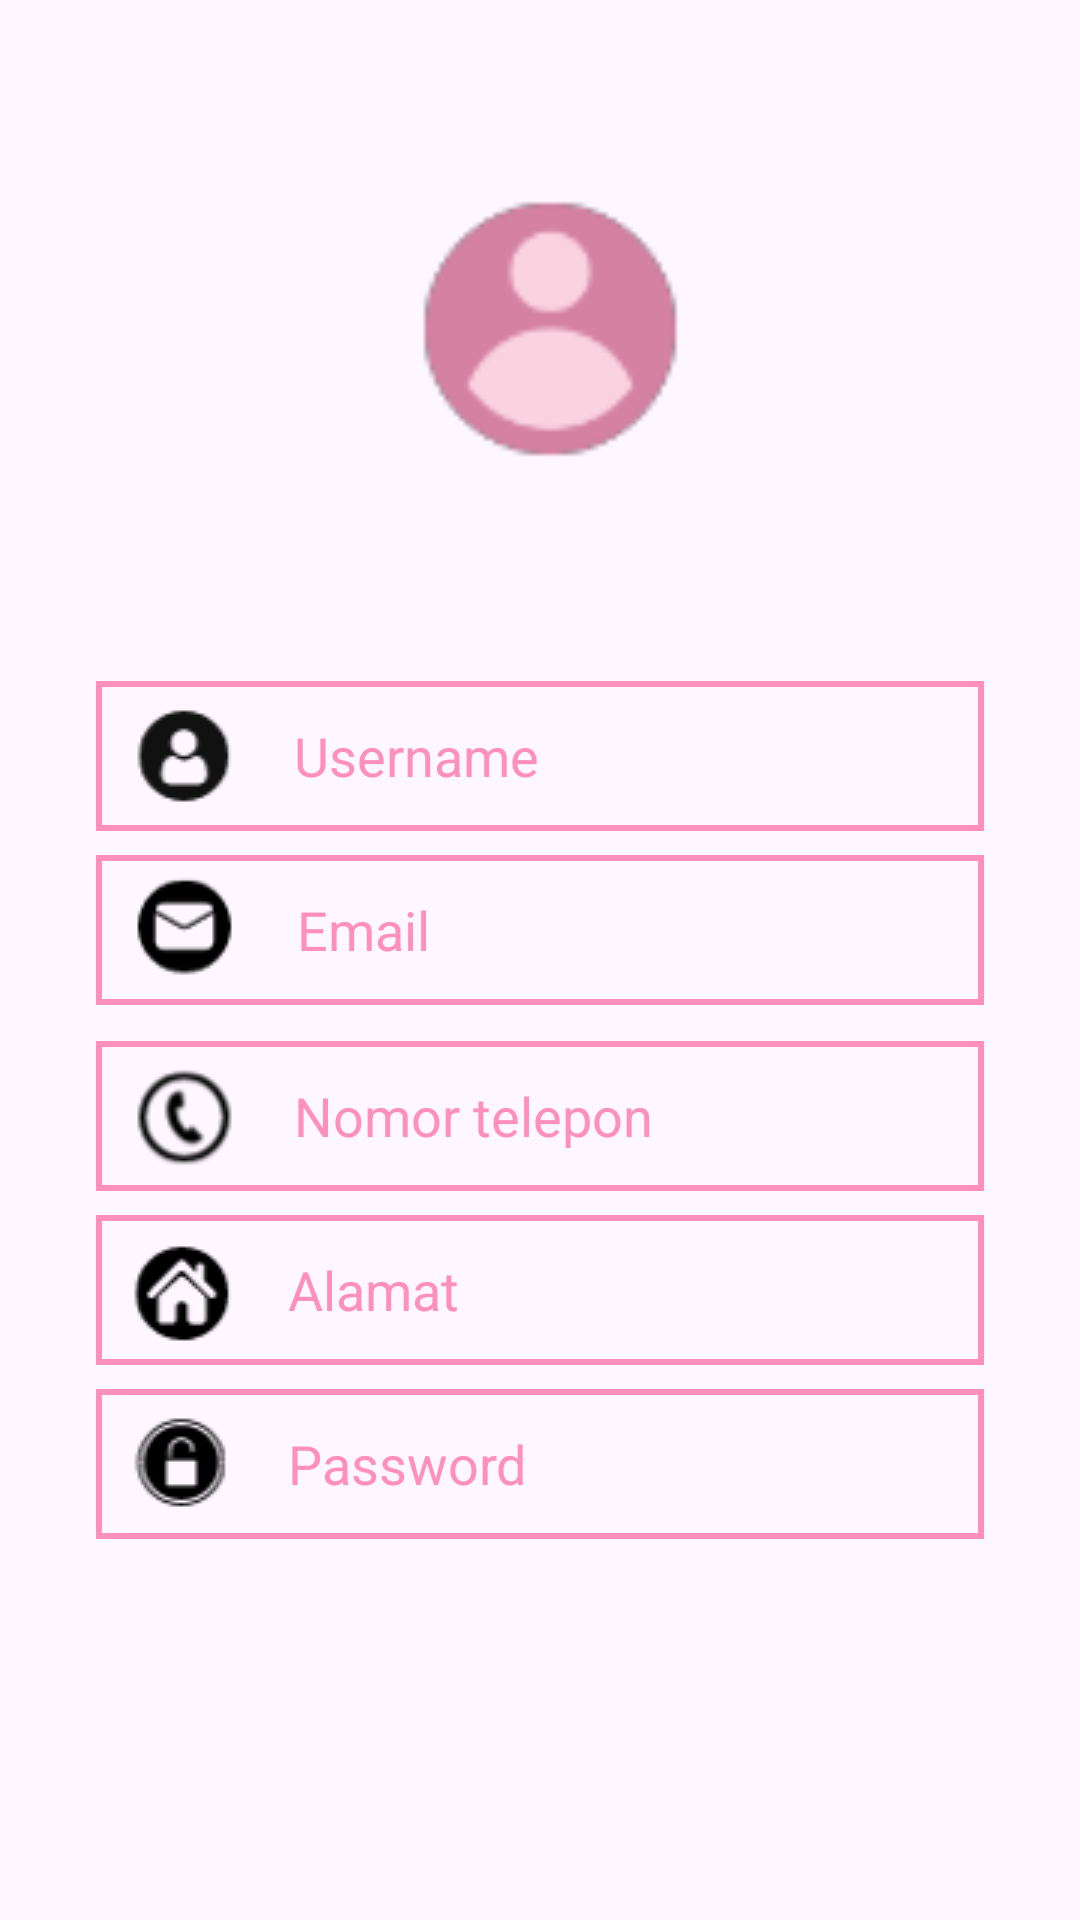

Icon click points for this 1080w x 1920h phone screenshot, format [x,y]:
profil: [550,329]
